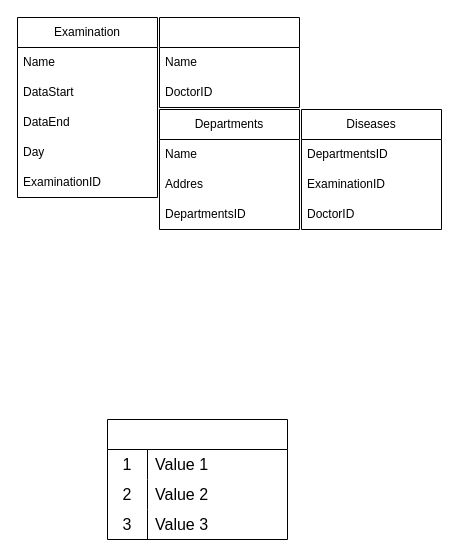
Image size: 459x557. Some labels were removed from this diagram. The shapes that lost their labels are listed below. From the top down, each one's box as (x1, y1, x2, y2) in pixels, then its label:
(158, 16, 300, 108): Doctors
(106, 418, 288, 540): Table
